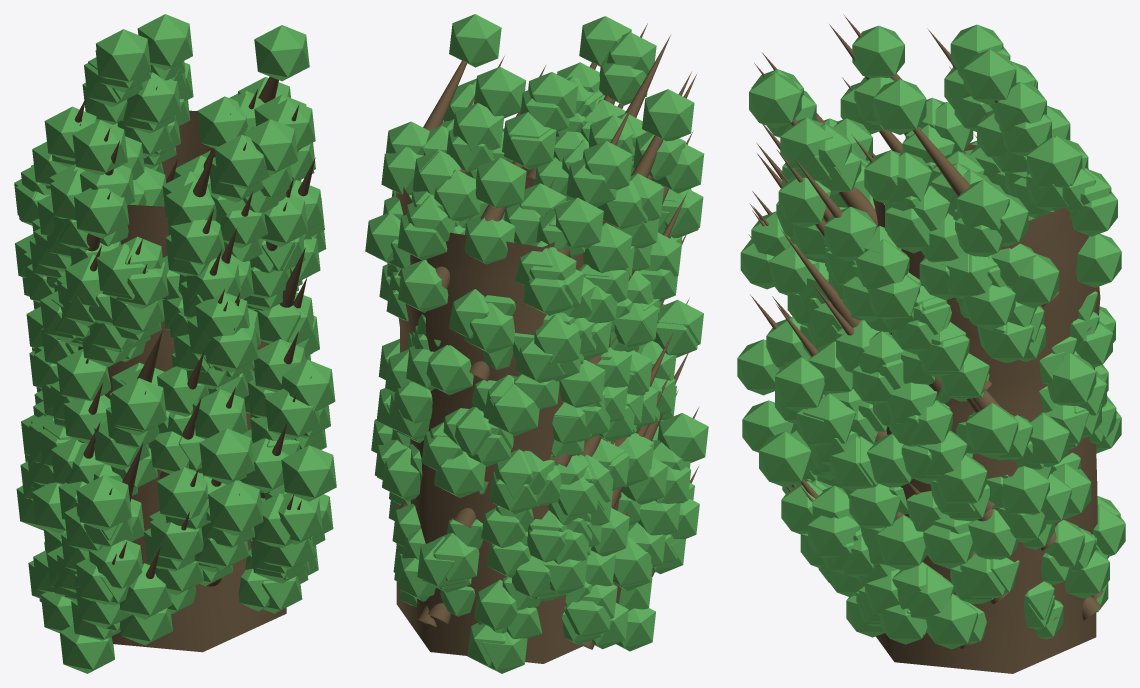
Rendered from tree_var_8751.glb.
3 renders of one model, left to right at view 1: azimuth 30°, elevation 25°; view 2: azimuth 150°, elevation 25°; view 3: azimuth 270°, elevation 25°, orthographic. The views are drawn at different scales.
Parts seen in each view (by area): view 1: tree_var_8751; view 2: tree_var_8751; view 3: tree_var_8751.
Boxes of the visible parts, box(x1,y1,x2,y2) form: tree_var_8751: box(14, 14, 336, 673); tree_var_8751: box(365, 14, 708, 673); tree_var_8751: box(737, 14, 1125, 673).
Size of the model in its own units: 2.63 by 5.55 by 3.19.
